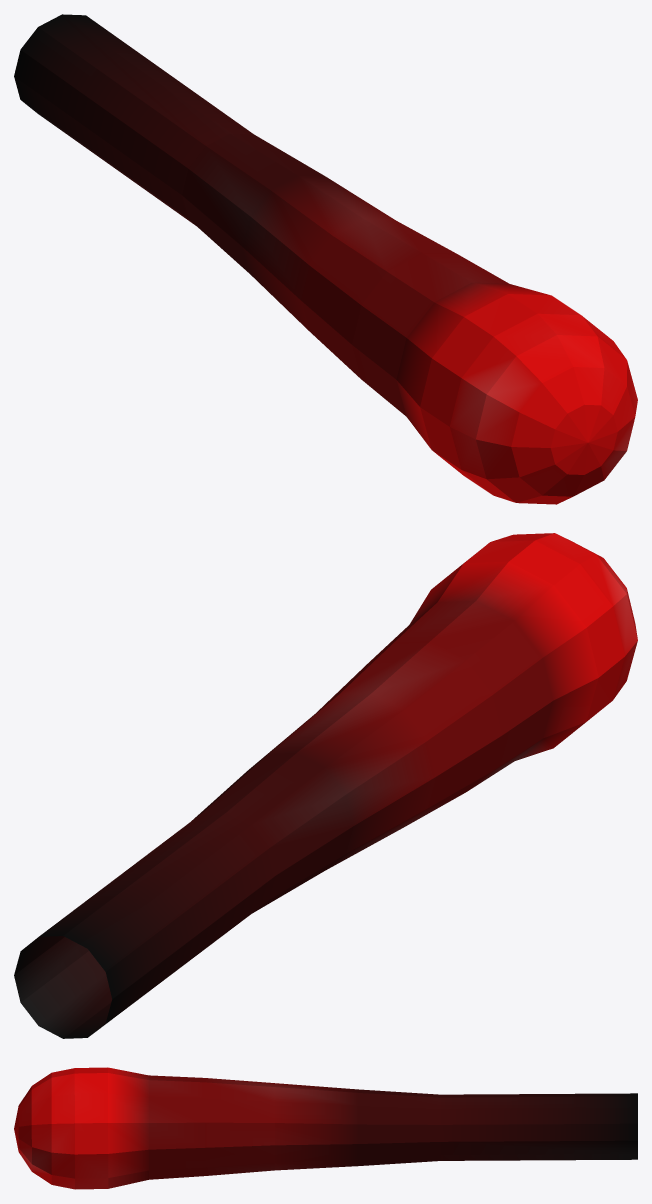
The model's file is Booger.fbx.
3 renders of one model, top to bottom at view 1: azimuth 30°, elevation 25°; view 2: azimuth 150°, elevation 25°; view 3: azimuth 270°, elevation 25°, orthographic. The views are drawn at different scales.
Visible parts, largest first — view 1: Sphere.002; view 2: Sphere.002; view 3: Sphere.002.
Part boxes in pixels (x1,y1,x2,y2): Sphere.002: [14, 14, 637, 504]; Sphere.002: [14, 533, 637, 1038]; Sphere.002: [14, 1067, 637, 1189].
Size of the model in its own units: 673 by 665 by 3404.
